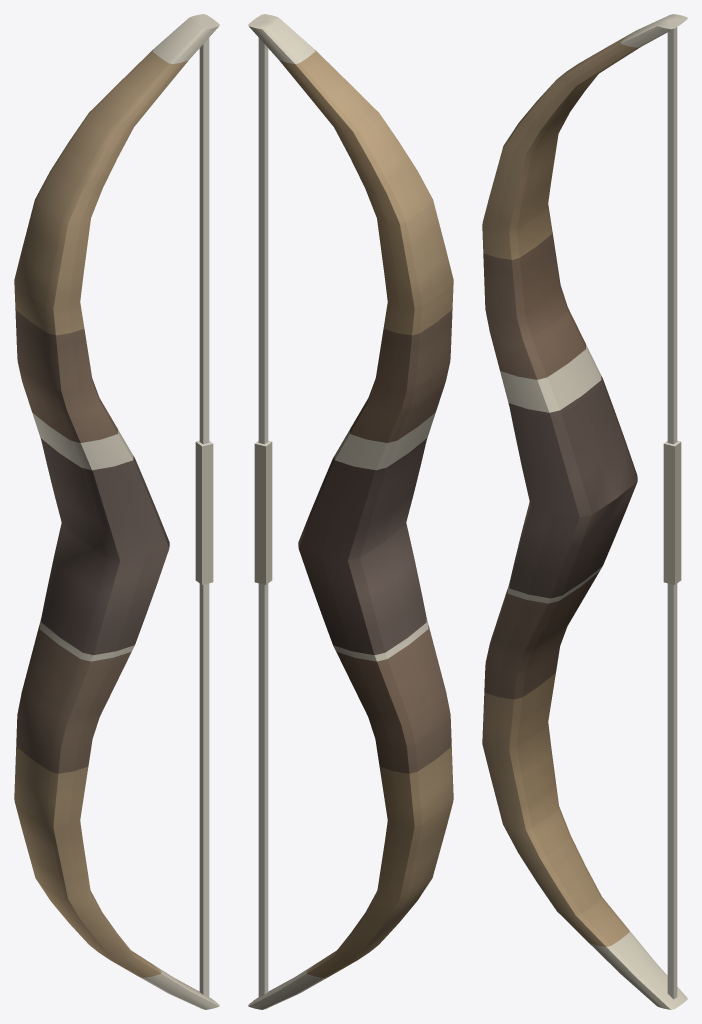
Rendered from WPN_06_Bow_Recurve_Hunters.fbx.
3 renders of one model, left to right at view 1: azimuth 30°, elevation 25°; view 2: azimuth 150°, elevation 25°; view 3: azimuth 330°, elevation 25°, orthographic.
Parts seen in each view (by area): view 1: EXP_WPN_06_Bow_Recurve_Hunters; view 2: EXP_WPN_06_Bow_Recurve_Hunters; view 3: EXP_WPN_06_Bow_Recurve_Hunters.
Part boxes in pixels (x1,y1,x2,y2): EXP_WPN_06_Bow_Recurve_Hunters: [14, 14, 219, 1009]; EXP_WPN_06_Bow_Recurve_Hunters: [248, 14, 453, 1009]; EXP_WPN_06_Bow_Recurve_Hunters: [482, 14, 687, 1009].
Size of the model in its own units: 63.78 by 324 by 36.63.
1 material, 1 textured.
